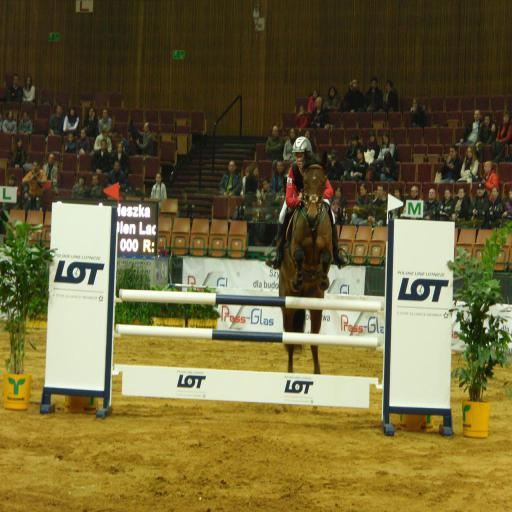Horse: (277, 147, 335, 375)
